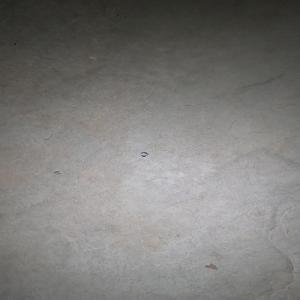Nut: (139, 152, 148, 157)
